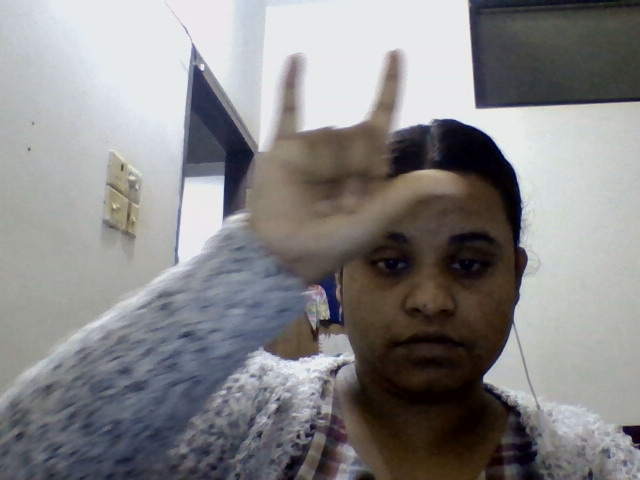I Love You: (221, 40, 499, 303)
